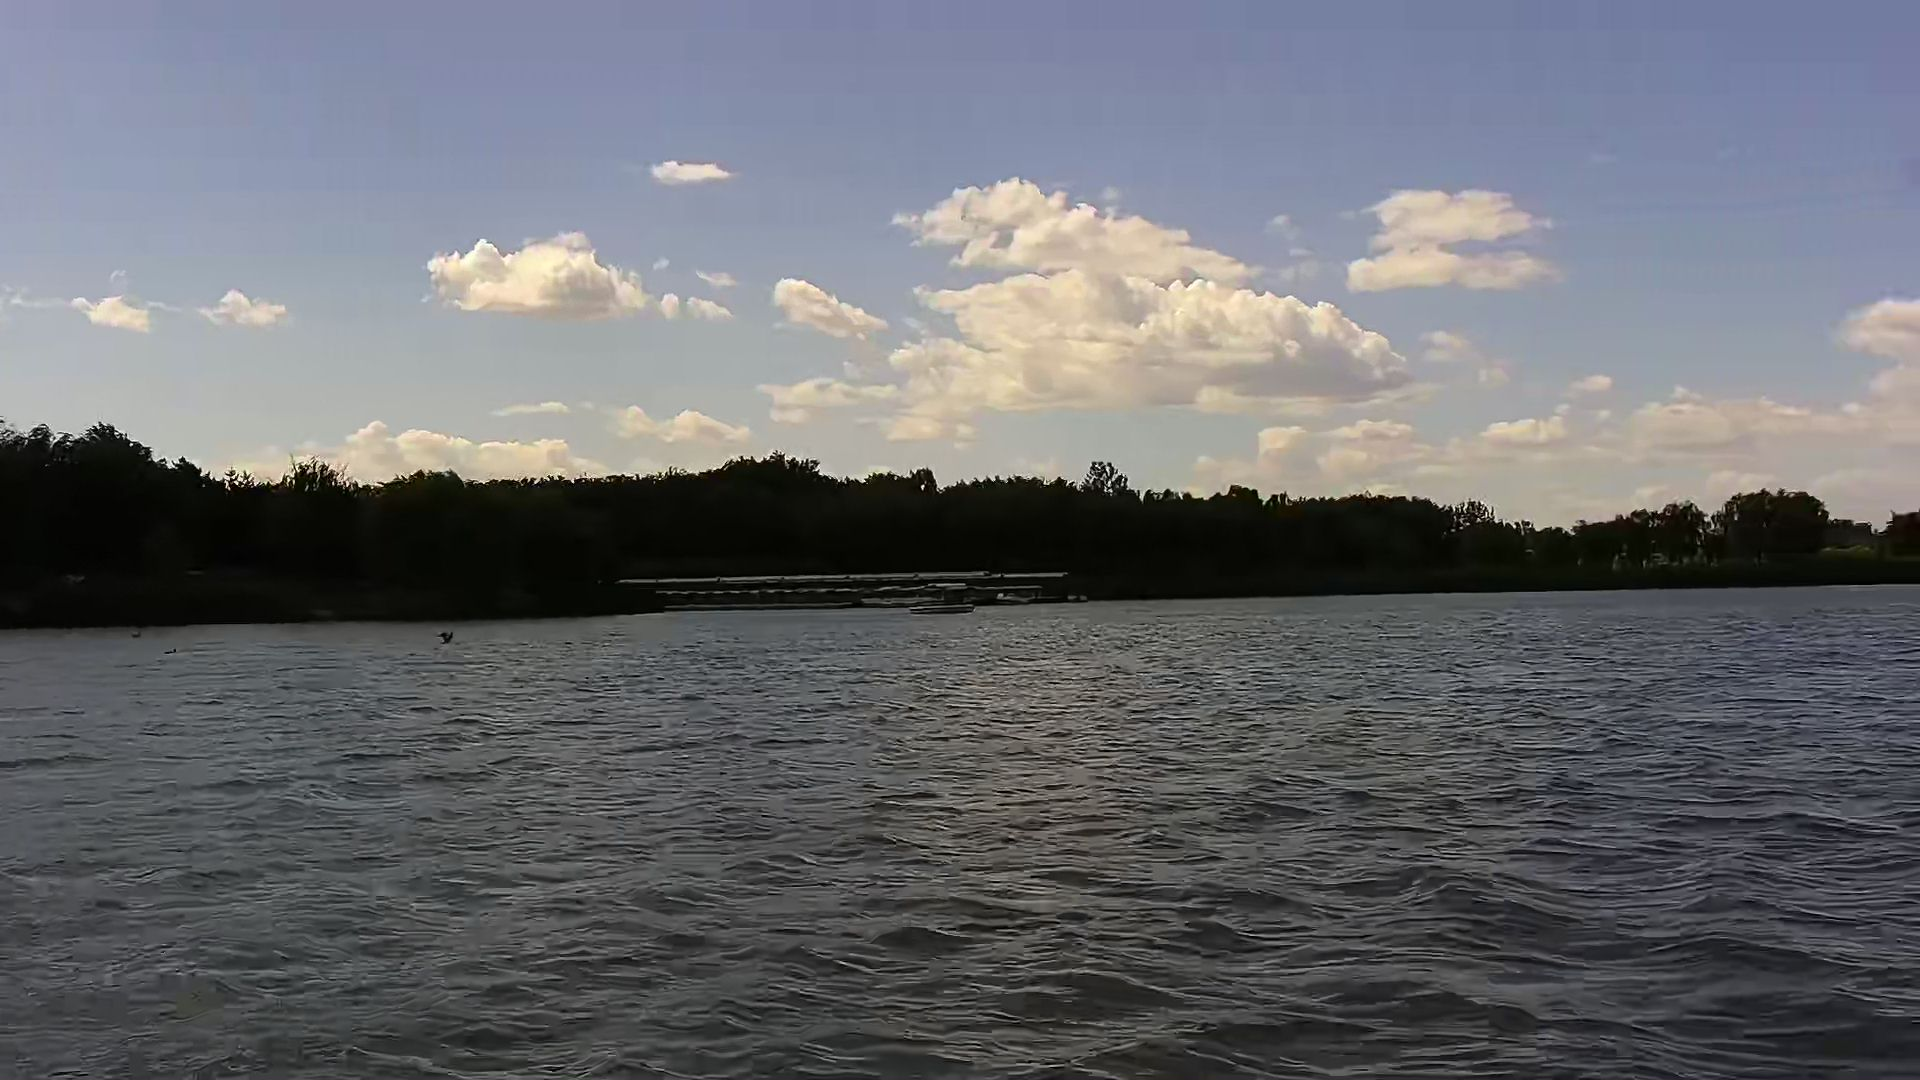boat: (905, 575, 986, 620)
harbor: (618, 564, 1093, 615)
